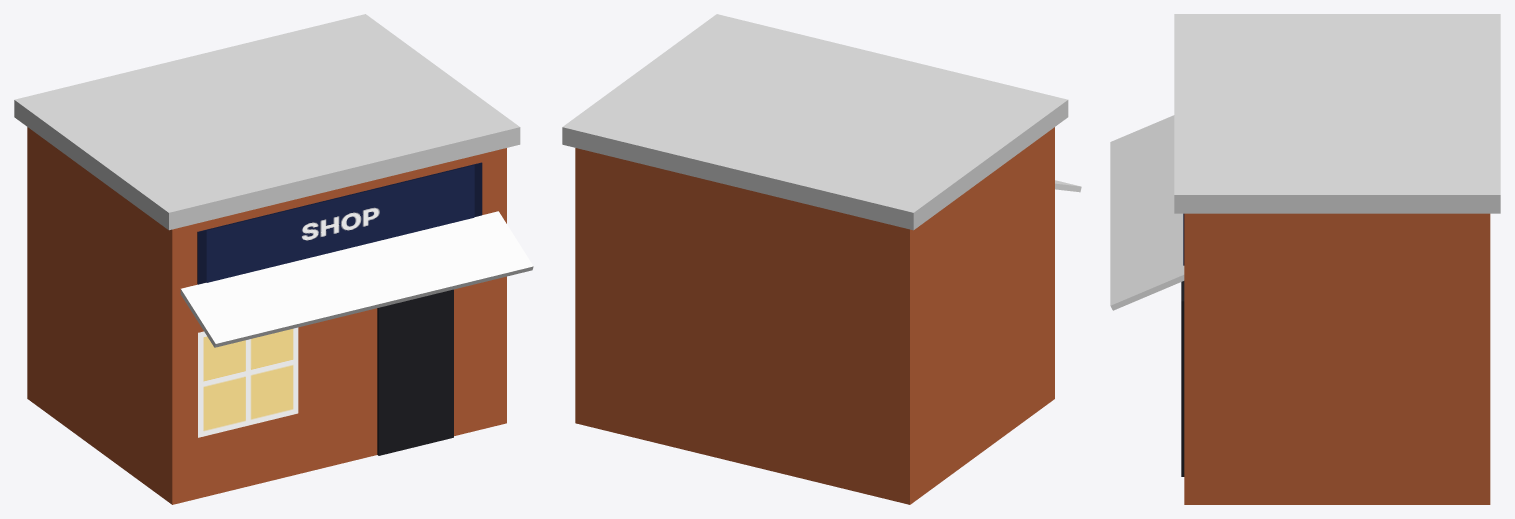
File: shop_blank.glb
The picture shows the model from 3 angles, left to right: view 1: azimuth 30°, elevation 25°; view 2: azimuth 150°, elevation 25°; view 3: azimuth 270°, elevation 25°; orthographic projection. The views are drawn at different scales.
Visible parts, largest first — view 1: shop_blank; view 2: shop_blank; view 3: shop_blank.
Part boxes in pixels (x1,y1,x2,y2): shop_blank: (14, 14, 533, 504); shop_blank: (562, 14, 1081, 504); shop_blank: (1110, 14, 1500, 504).
Size of the model in its own units: 4.2 by 3.4 by 3.83.
Materials: 7 (2 with a texture image).
